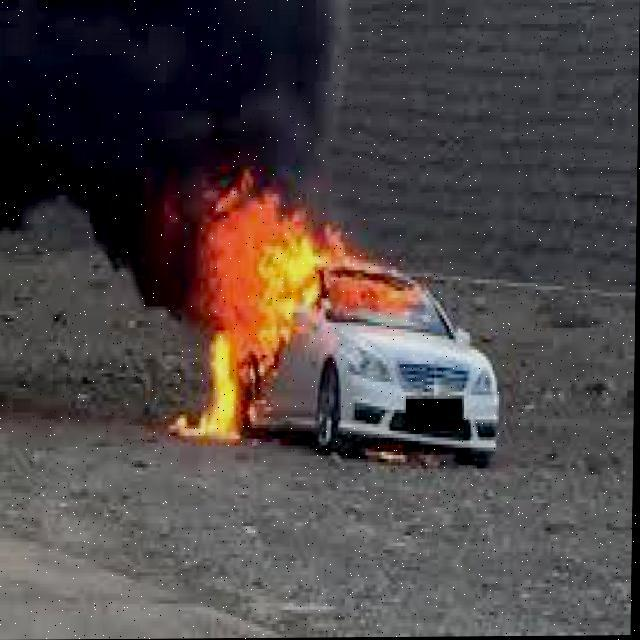Fire: (176, 173, 412, 472)
